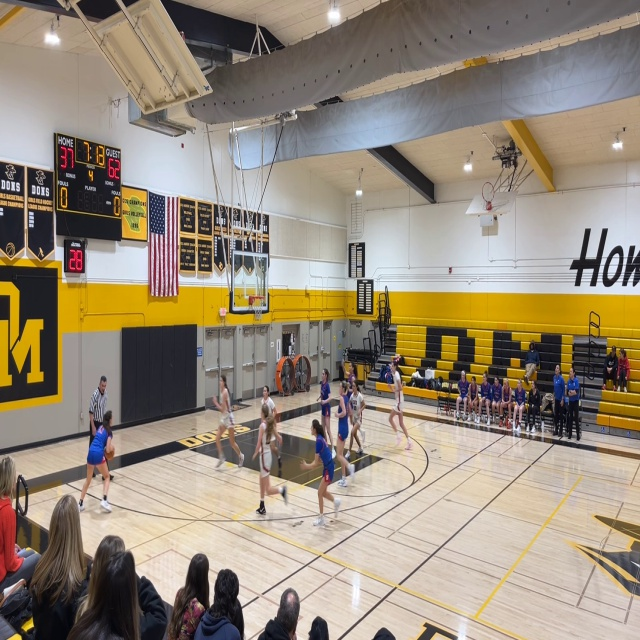Basketball: (105, 446, 115, 460)
